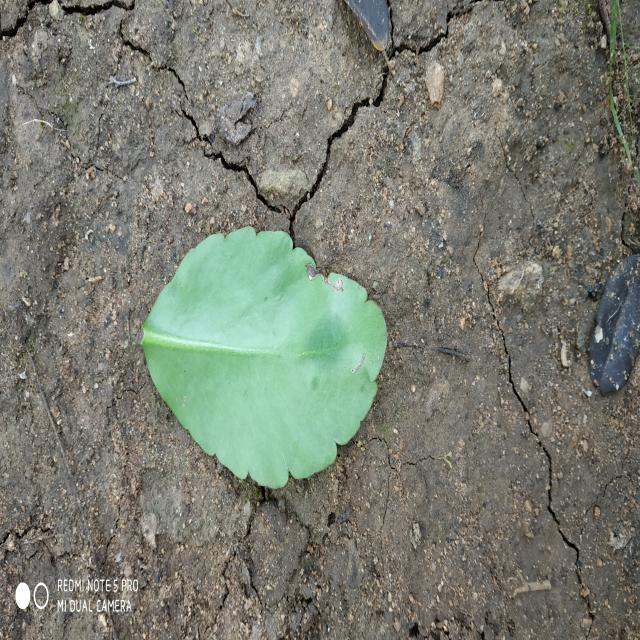spinach: (142, 227, 386, 489)
